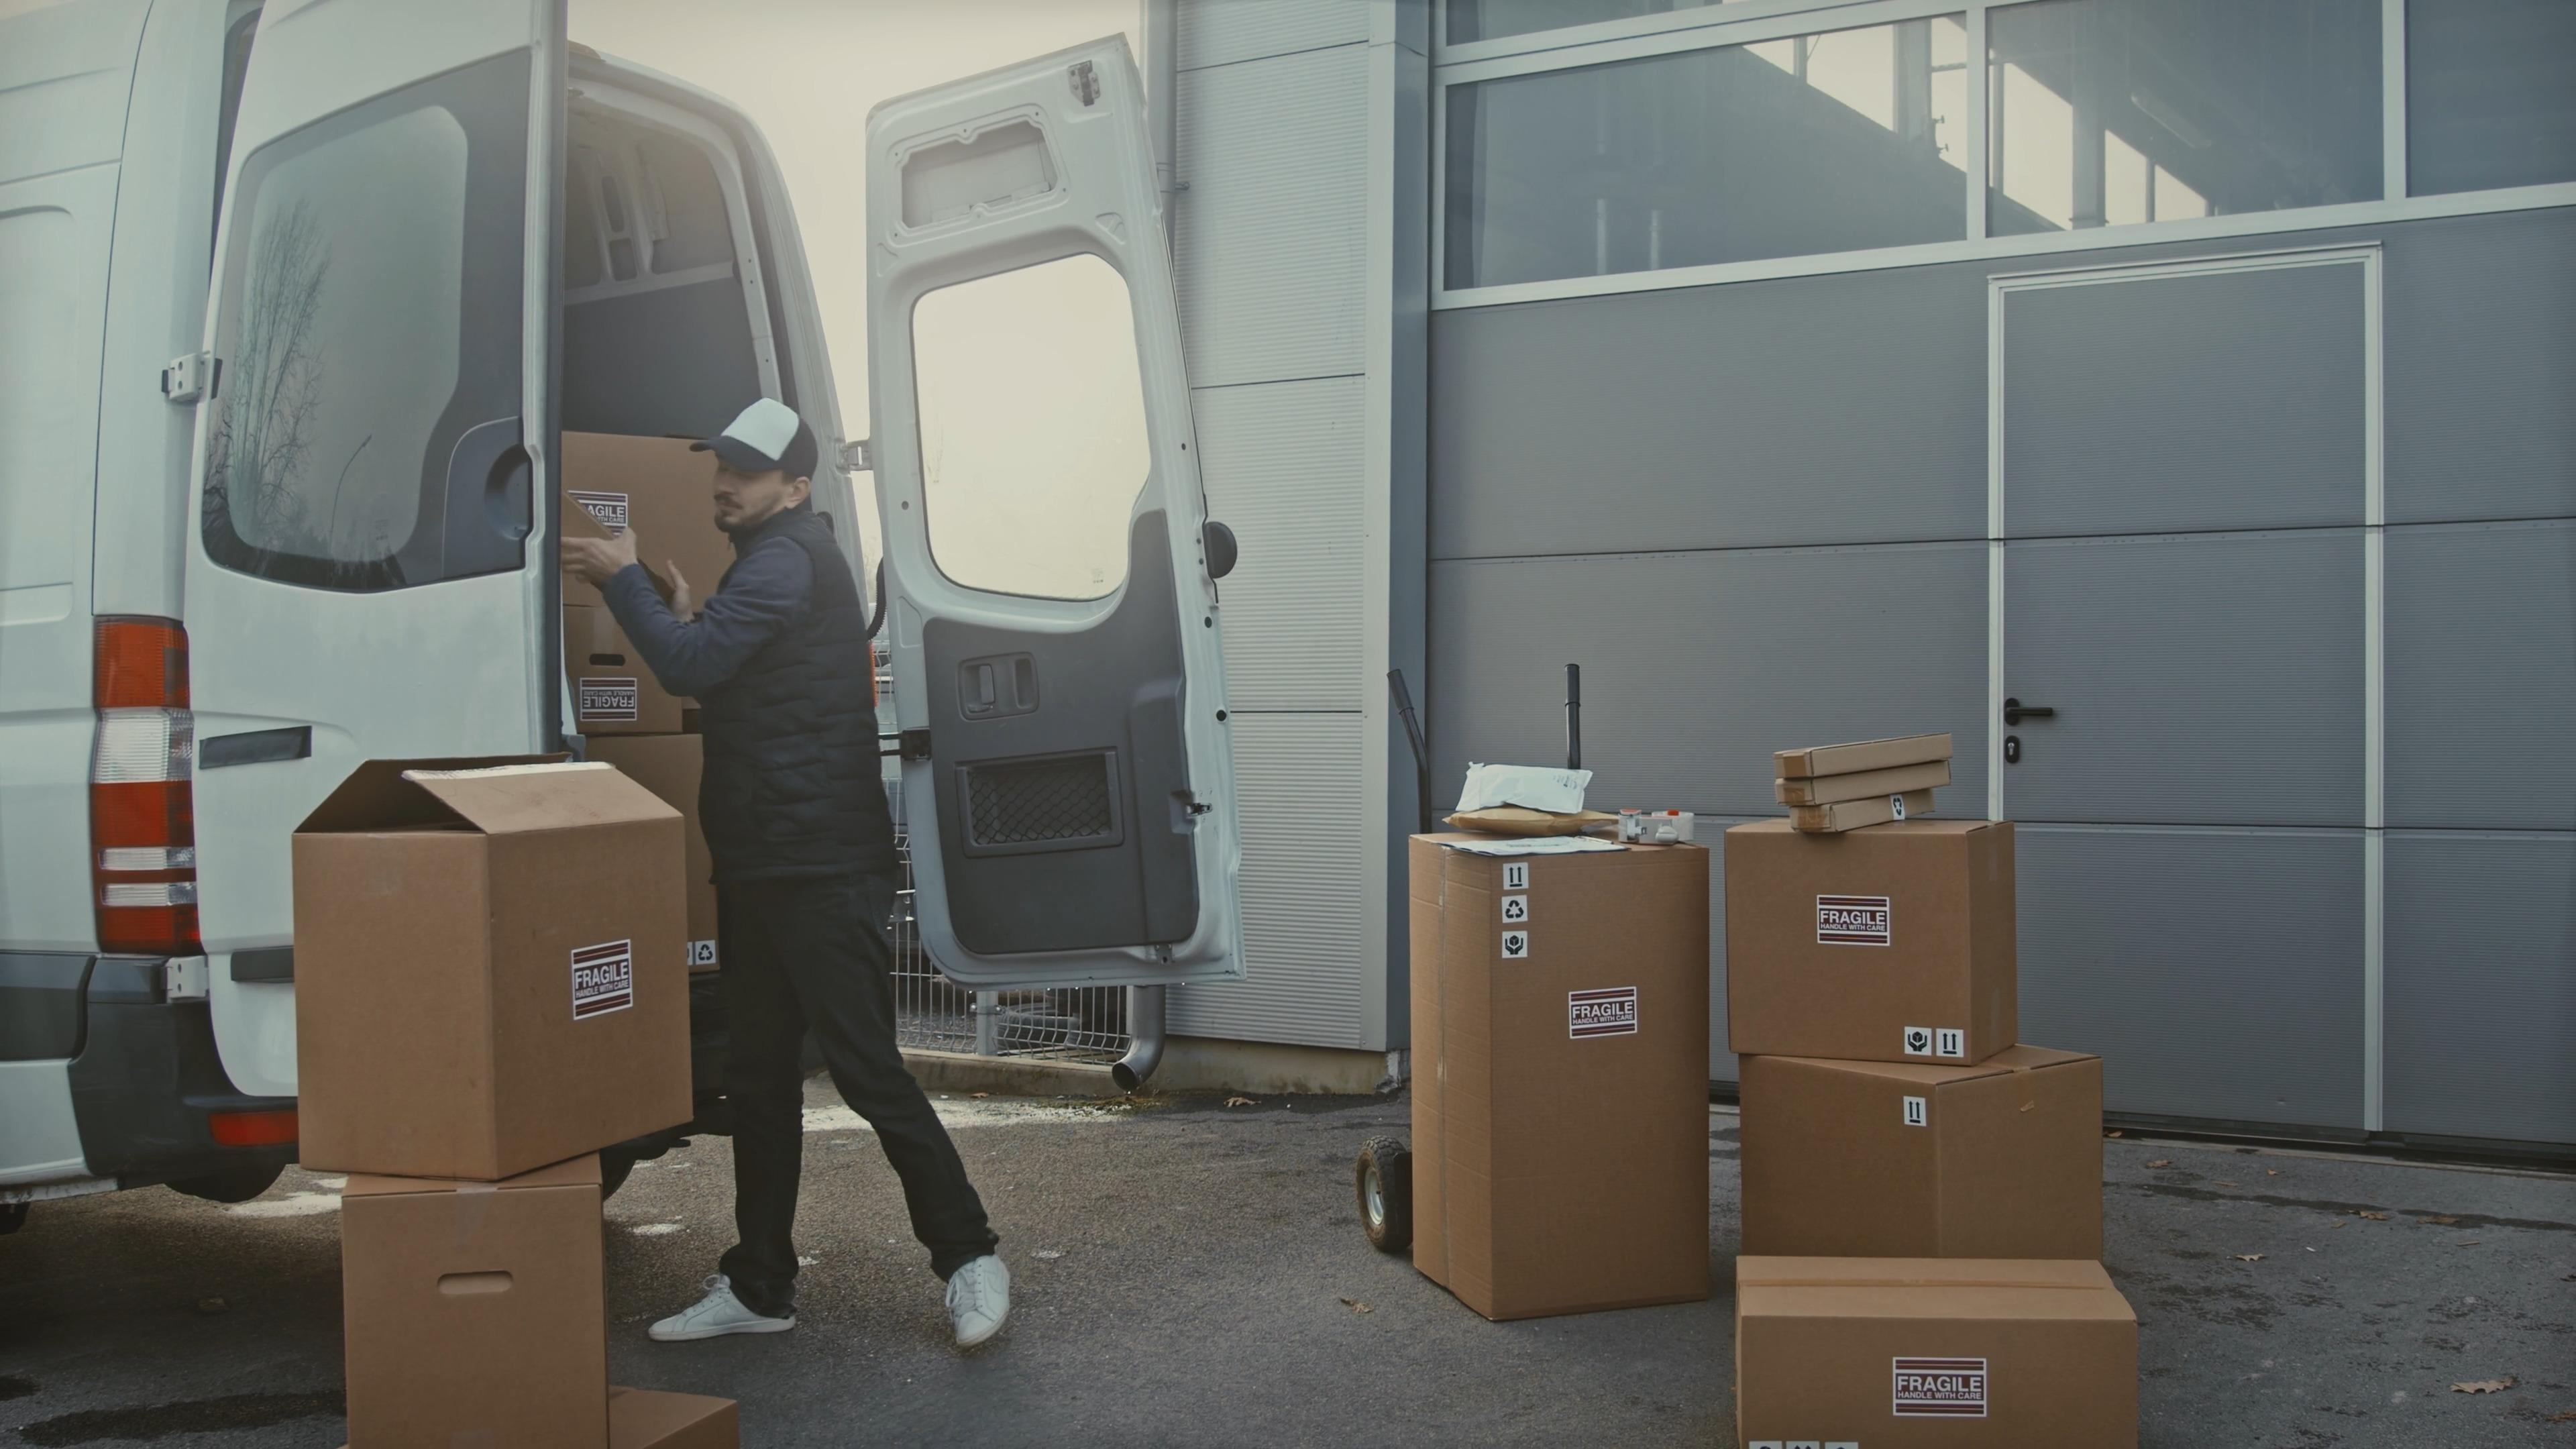-: (288, 752, 709, 1182), (1403, 839, 1702, 1318), (326, 1191, 632, 1438), (1736, 1258, 2132, 1449), (1732, 812, 2017, 1074), (1748, 1063, 2107, 1270), (1767, 761, 1953, 805), (1773, 732, 1953, 777)
